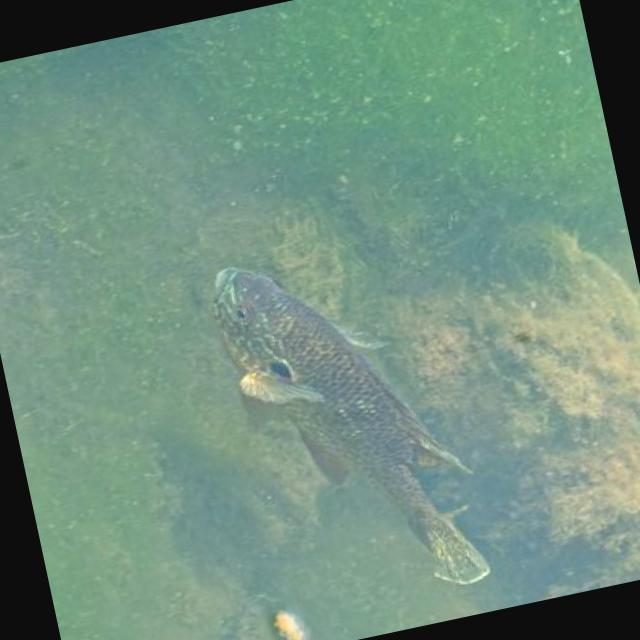Gunes Levregi: (201, 224, 506, 624)
